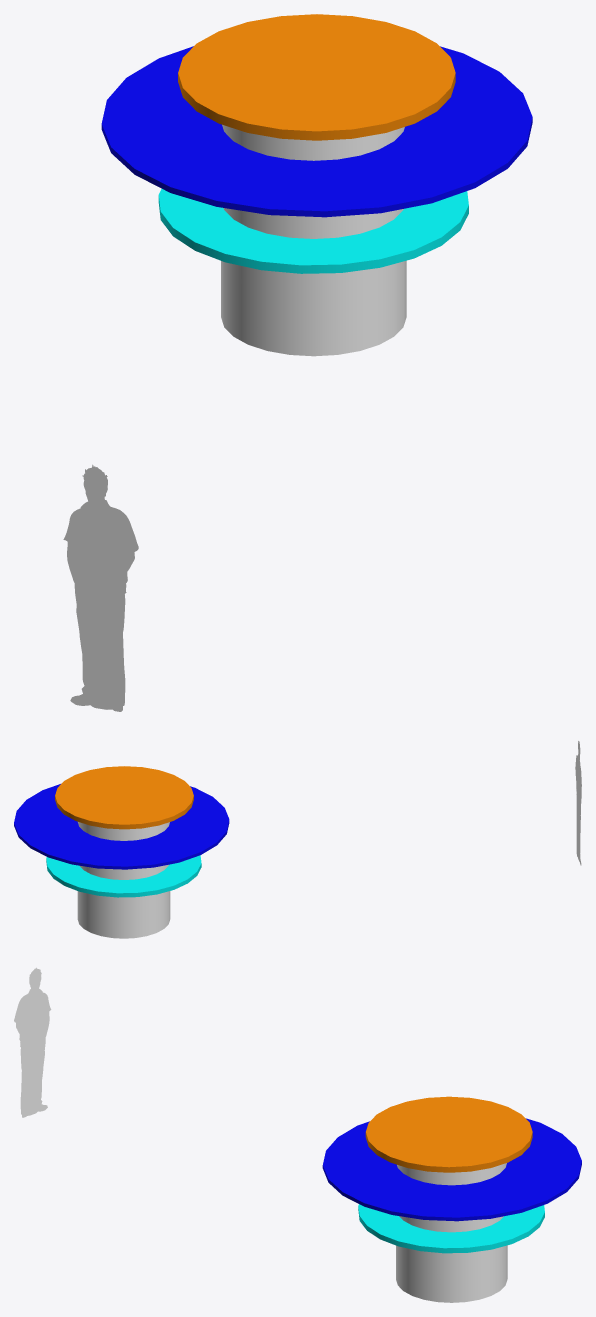
Rendered from shelf-round.fbx.
3 views of the same model, one above another, from view 1: azimuth 30°, elevation 25°; view 2: azimuth 150°, elevation 25°; view 3: azimuth 270°, elevation 25° (orthographic). The views are drawn at different scales.
Parts seen in each view (by area): view 1: Model, G_2D_Man_Standing_Greg_1_1; view 2: Model, G_2D_Man_Standing_Greg_1_1; view 3: Model, G_2D_Man_Standing_Greg_1_1.
Boxes of the visible parts, <box> form: Model: <box>101,14,532,356</box>; G_2D_Man_Standing_Greg_1_1: <box>63,464,138,711</box>; Model: <box>14,766,229,938</box>; G_2D_Man_Standing_Greg_1_1: <box>575,741,581,865</box>; Model: <box>322,1096,581,1302</box>; G_2D_Man_Standing_Greg_1_1: <box>14,967,51,1117</box>.
Size of the model in its own units: 238 by 72.25 by 252.
